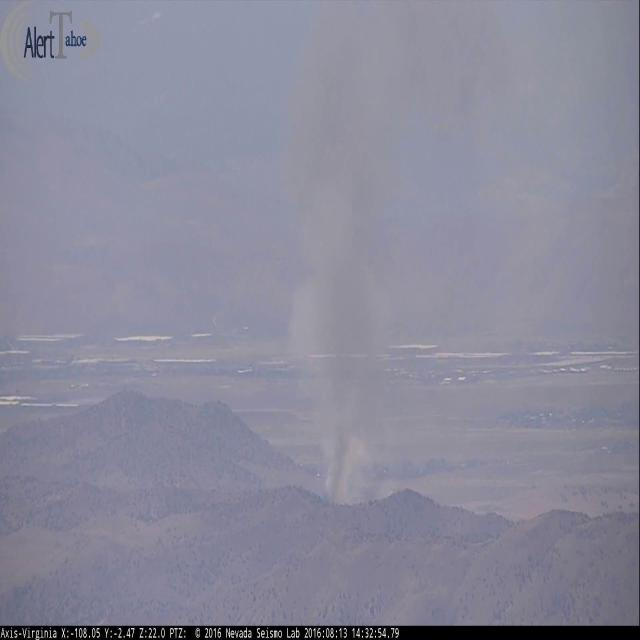smoke: (284, 0, 530, 506)
